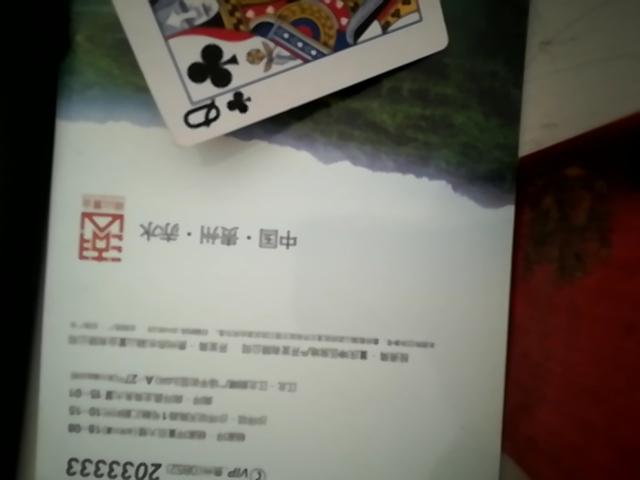mh q: (105, 1, 468, 154)
